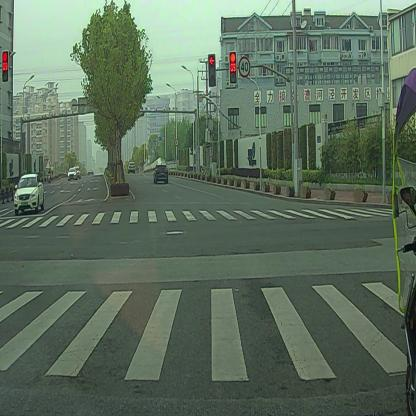Red Light: (208, 53, 216, 87), (229, 53, 237, 83)
